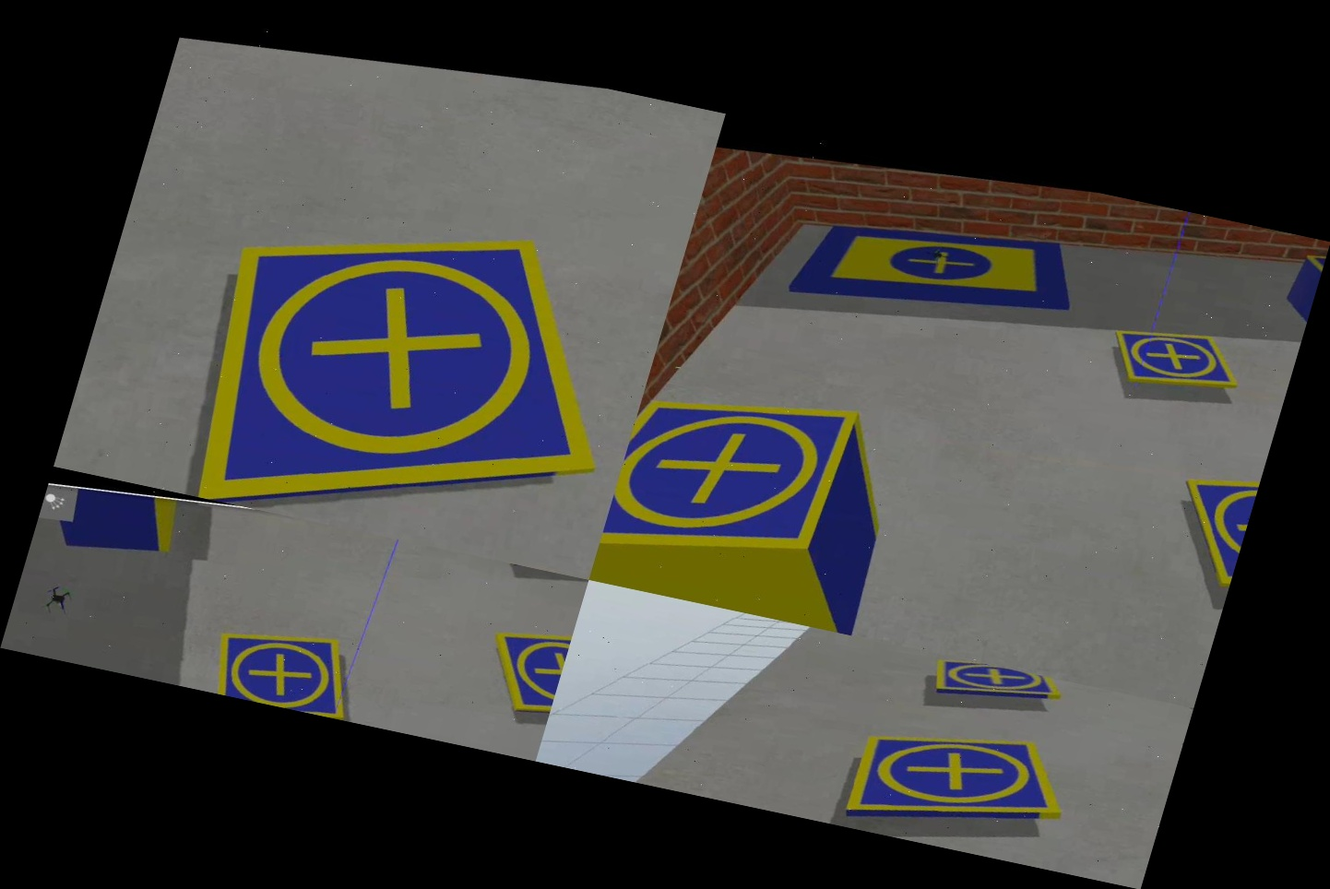large_base: (778, 186, 1092, 350)
small_base: (161, 170, 671, 577), (598, 367, 883, 599), (833, 705, 1083, 862), (203, 613, 366, 720), (1151, 446, 1265, 594), (1099, 313, 1252, 406), (471, 611, 575, 722), (926, 654, 1068, 717)
